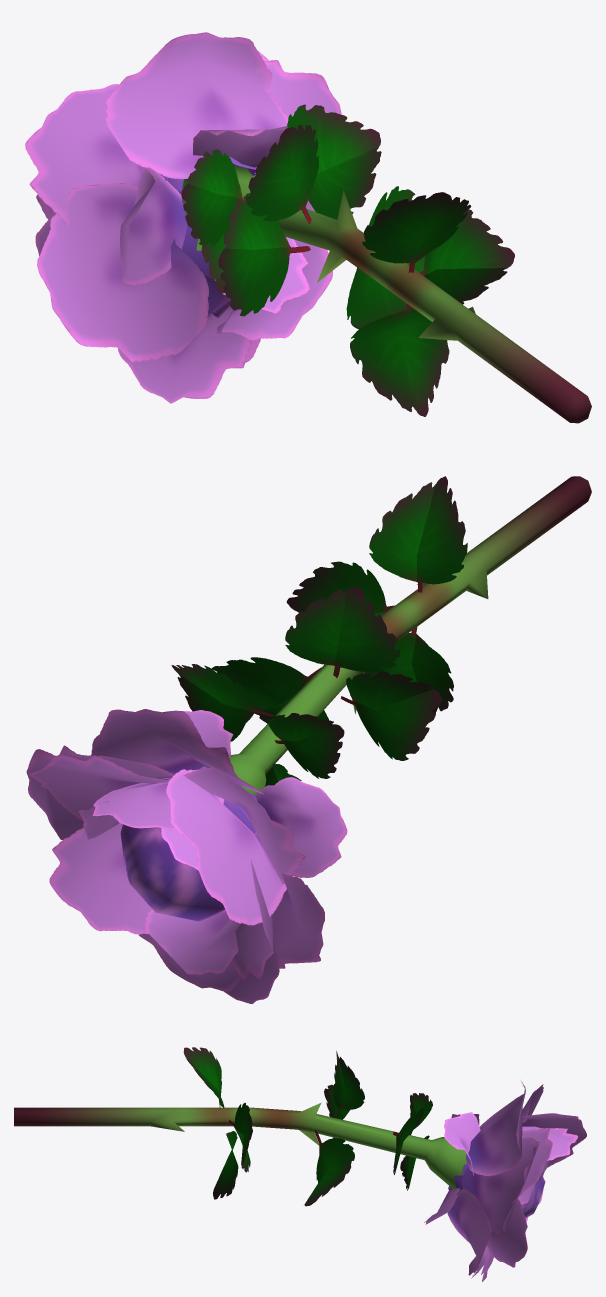
The model's file is SM_Rose_Lilac_WideOpen.fbx.
3 renders of one model, top to bottom at view 1: azimuth 30°, elevation 25°; view 2: azimuth 150°, elevation 25°; view 3: azimuth 270°, elevation 25°, orthographic. The views are drawn at different scales.
Parts seen in each view (by area): view 1: Rose_Lilac_WideOpen; view 2: Rose_Lilac_WideOpen; view 3: Rose_Lilac_WideOpen.
Part boxes in pixels (x1,y1,x2,y2): Rose_Lilac_WideOpen: (25, 32, 591, 423); Rose_Lilac_WideOpen: (26, 476, 591, 1003); Rose_Lilac_WideOpen: (14, 1047, 586, 1281).
Size of the model in its own units: 52.56 by 59.81 by 130.
